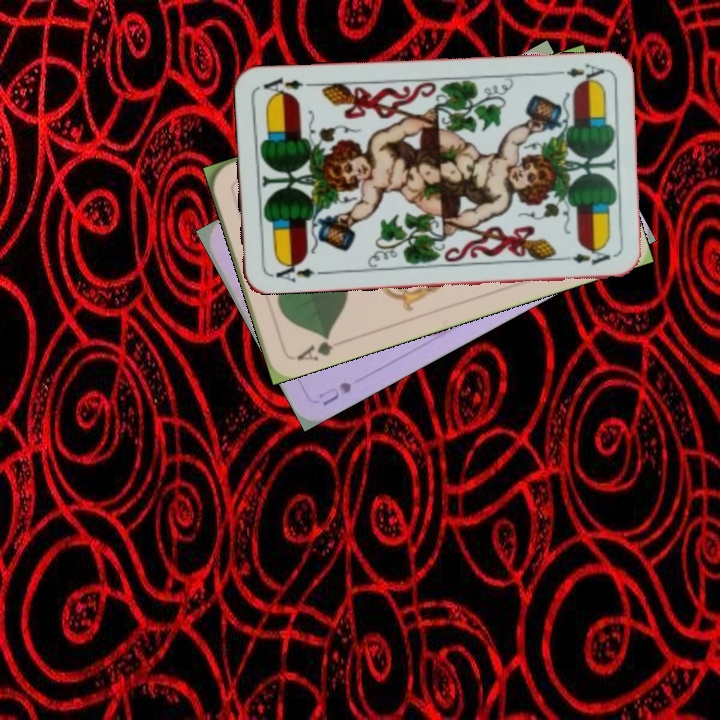EA: (549, 60, 607, 86), (272, 257, 317, 284)
GA: (292, 329, 336, 364)
SU: (314, 377, 354, 409)
